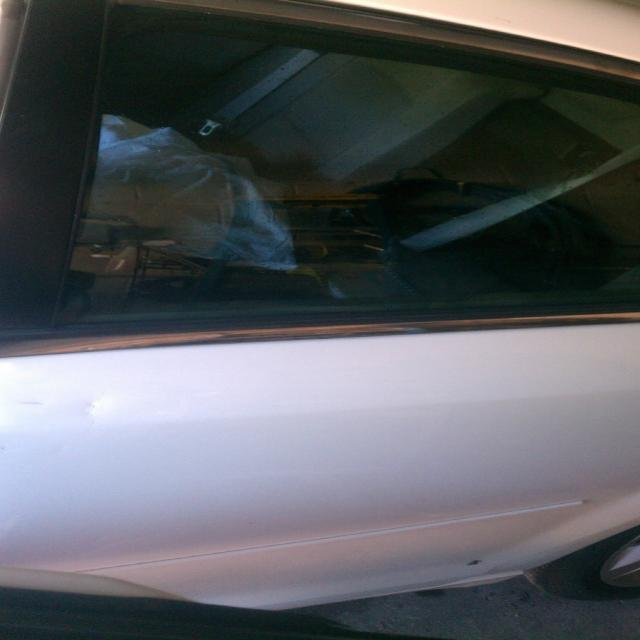other: (0, 0, 639, 612)
